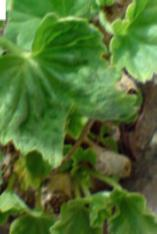Tomato leaf mosaic virus: (0, 15, 145, 166), (104, 0, 157, 81)
